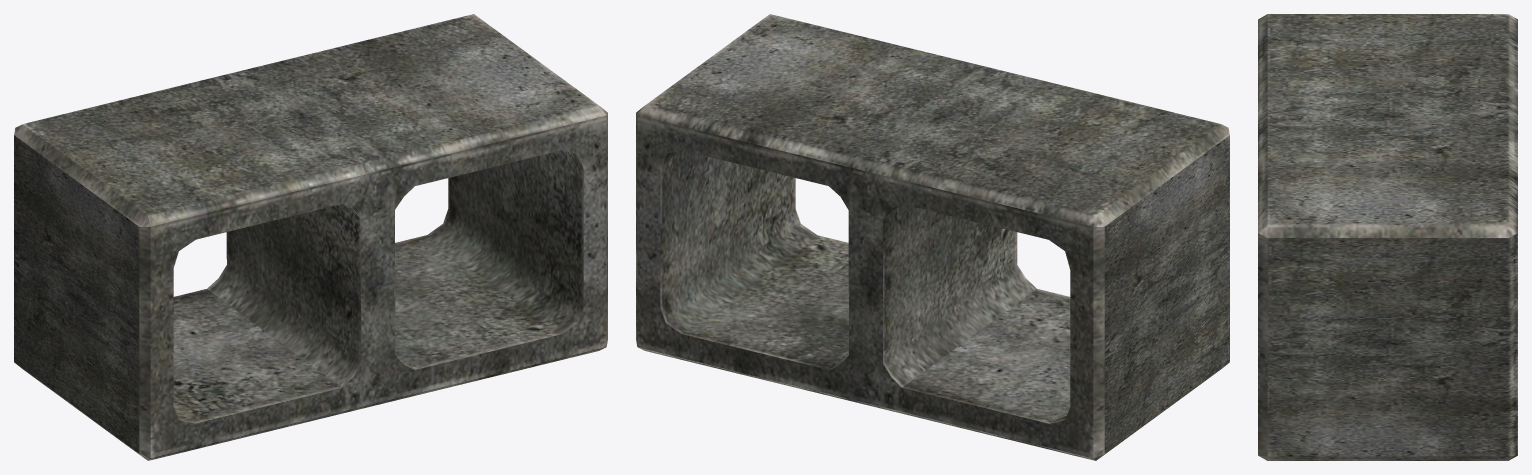
The model's file is p_glo_cinder_block_big_lod0.glb.
3 renders of one model, left to right at view 1: azimuth 30°, elevation 25°; view 2: azimuth 150°, elevation 25°; view 3: azimuth 270°, elevation 25°, orthographic. The views are drawn at different scales.
Visible parts, largest first — view 1: p_glo_cinder_block_lod0; view 2: p_glo_cinder_block_lod0; view 3: p_glo_cinder_block_lod0.
Boxes of the visible parts, <box> form: p_glo_cinder_block_lod0: <box>14,14,607,460</box>; p_glo_cinder_block_lod0: <box>636,14,1229,460</box>; p_glo_cinder_block_lod0: <box>1258,14,1517,460</box>.
Bounding box in the file's own units: 24 × 12 × 12.
Materials: 1 (1 with a texture image).
